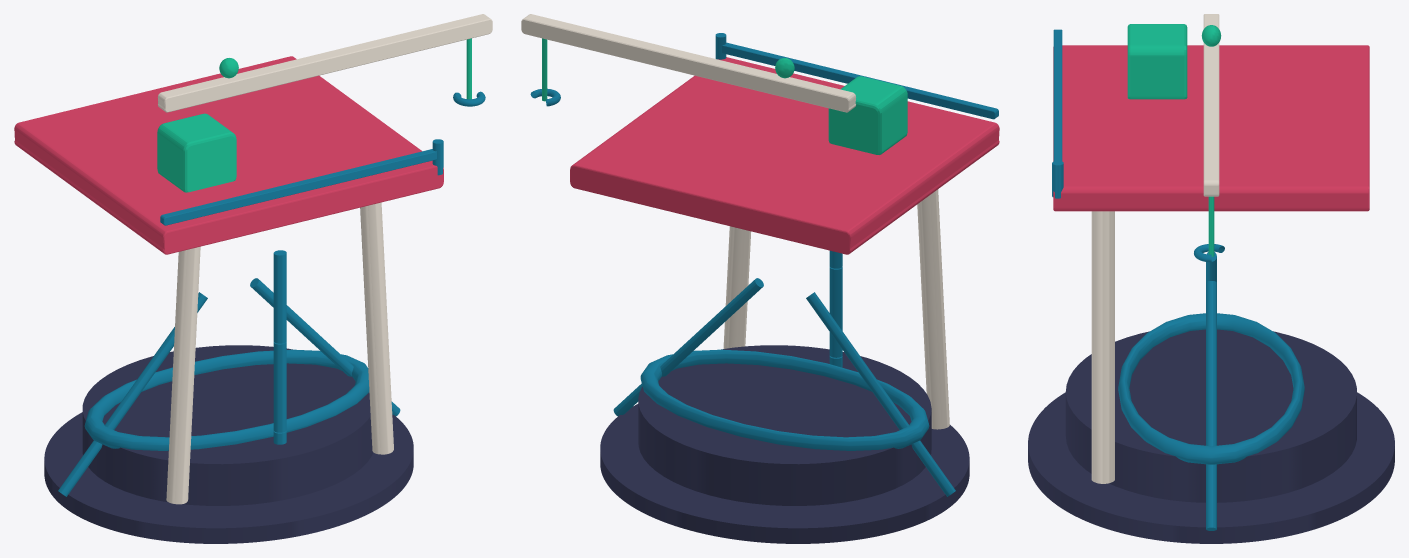
File: 1355_城市运转图鉴_转运担架.glb
3 views of the same model, side by side, from view 1: azimuth 30°, elevation 25°; view 2: azimuth 150°, elevation 25°; view 3: azimuth 270°, elevation 25° (orthographic). The views are drawn at different scales.
Visible parts, largest first — view 1: card_1355; view 2: card_1355; view 3: card_1355.
Part boxes in pixels (x1,y1,x2,y2): card_1355: (14, 14, 492, 543); card_1355: (521, 14, 999, 543); card_1355: (1028, 14, 1394, 543).
Bounding box in the file's own units: 1.07 × 1 × 0.7434.
